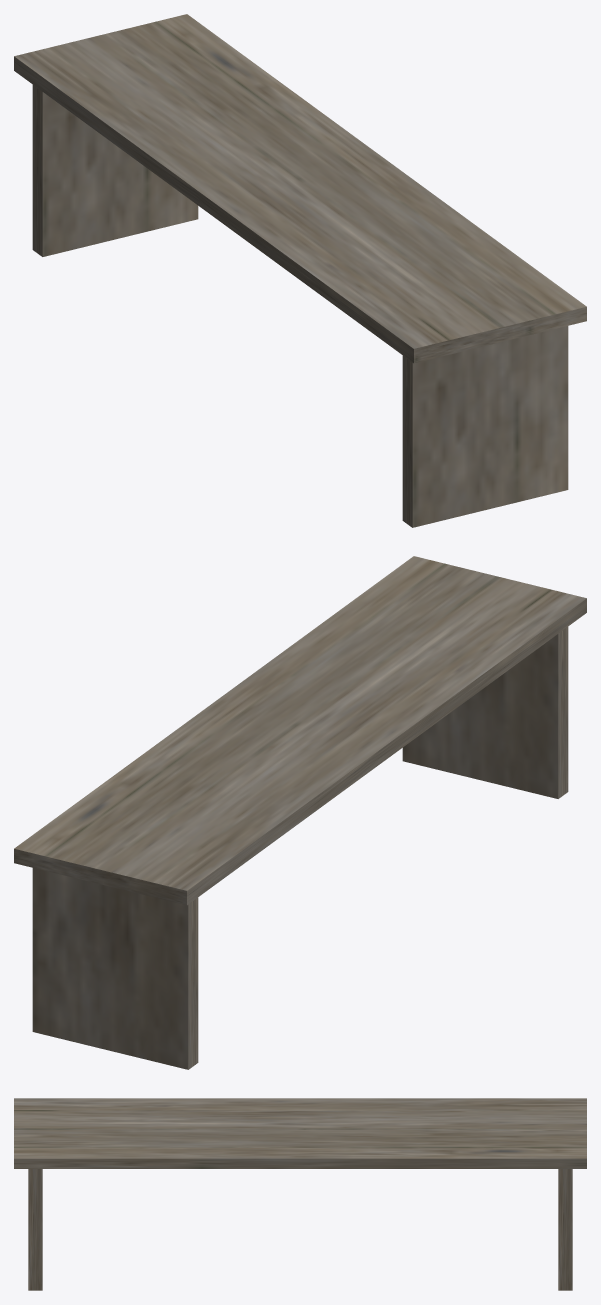
Rendered from Bench.fbx.
3 views of the same model, one above another, from view 1: azimuth 30°, elevation 25°; view 2: azimuth 150°, elevation 25°; view 3: azimuth 270°, elevation 25° (orthographic). The views are drawn at different scales.
Parts seen in each view (by area): view 1: Seat, LegL, LegR; view 2: Seat, LegR, LegL; view 3: Seat, LegR, LegL.
Part boxes in pixels (x1=…): Seat: x1=14, y1=14, x2=586, y2=363; LegL: x1=402, y1=326, x2=568, y2=527; LegR: x1=32, y1=85, x2=198, y2=256; Seat: x1=14, y1=556, x2=586, y2=905; LegR: x1=32, y1=868, x2=198, y2=1069; LegL: x1=402, y1=627, x2=568, y2=798; Seat: x1=14, y1=1098, x2=586, y2=1168; LegR: x1=558, y1=1169, x2=572, y2=1290; LegL: x1=28, y1=1169, x2=42, y2=1290.
Size of the model in its own units: 200 by 208 by 800.
